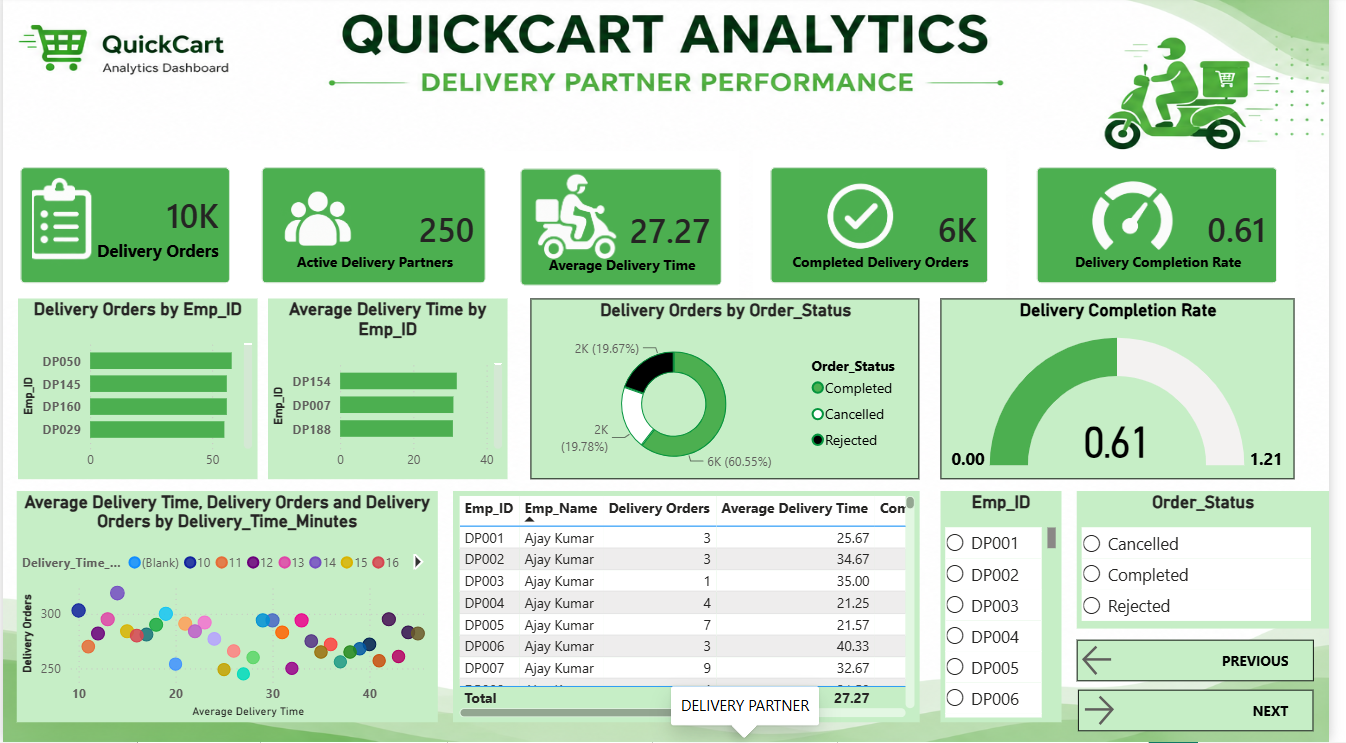

This screenshot's page, from the dashboard's own definition file:
{"tool":"powerbi","page":{"name":"DELIVERY PARTNER","canvas":[1280,720],"ordinal":3},"visuals":[{"type":"cardVisual","fields":{"Data":["All Measures.Delivery Orders"]},"box":[0,148.1,236.4,146.8],"z":0},{"type":"image","box":[0,170.1,139.9,90.5],"z":1000},{"type":"cardVisual","fields":{"Data":["All Measures.Active Delivery Partners"]},"box":[232.5,148.1,250.6,146.8],"z":2000},{"type":"image","box":[259.7,180.5,84.4,70.1],"z":3000},{"type":"cardVisual","fields":{"Data":["All Measures.Average Delivery Time"]},"box":[483.1,149.4,228,147.2],"z":4000},{"type":"cardVisual","fields":{"Data":["All Measures.Completed Delivery Orders"]},"box":[723.4,148.1,244.2,146.8],"z":5000},{"type":"image","box":[732.5,168.8,182.2,105],"z":6000},{"type":"cardVisual","fields":{"Data":["All Measures.Delivery Completion Rate"]},"box":[980.5,148.1,266.2,146.8],"z":7000},{"type":"image","box":[1036.4,168.8,106.5,77.9],"z":8000},{"type":"barChart","fields":{"Category":["quickcartdb delivery_partner.Emp_ID"],"Y":["All Measures.Average Delivery Time"]},"box":[255.8,292.2,231.2,174],"z":9000},{"type":"barChart","fields":{"Category":["quickcartdb delivery_partner.Emp_ID"],"Y":["All Measures.Delivery Orders"]},"box":[14.3,292.2,231.2,174],"z":10000},{"type":"donutChart","fields":{"Category":["quickcartdb delivery_partner.Order_Status"],"Y":["All Measures.Delivery Orders"]},"box":[509.1,292.2,375.3,174],"z":11000},{"type":"gauge","fields":{"Y":["All Measures.Delivery Completion Rate"]},"box":[905.2,292.2,341.6,174],"z":12000},{"type":"scatterChart","fields":{"X":["All Measures.Average Delivery Time"],"Y":["All Measures.Delivery Orders"],"Series":["quickcartdb delivery_partner.Delivery_Time_Minutes"],"Size":["All Measures.Delivery Orders"]},"box":[13,477.9,406.5,223.4],"z":13000},{"type":"tableEx","fields":{"Values":["quickcartdb delivery_partner.Emp_ID","quickcartdb delivery_partner.Emp_Name","All Measures.Delivery Orders","All Measures.Average Delivery Time","All Measures.Completed Delivery Orders"]},"box":[433.8,477.9,450.6,223.4],"z":14000},{"type":"listSlicer","fields":{"Values":["quickcartdb delivery_partner.Emp_ID"]},"box":[905.2,477.9,116.9,223.4],"z":15000},{"type":"listSlicer","fields":{"Values":["quickcartdb delivery_partner.Order_Status"]},"box":[1036.4,477.9,244.2,132.5],"z":16000},{"type":"actionButton","box":[1036.4,620.8,228.6,40.3],"z":17000},{"type":"actionButton","box":[1037.7,670.1,227.3,40.3],"z":18000},{"type":"image","box":[487,163.6,128.6,115.6],"z":19000}]}

Visuals, with their boxes in screenshot pixels (x1, y1, x2, y2), scaled from the page's 1280x720 canvas onto the 1346x743 screenshot:
cardVisual - All Measures.Delivery Orders: (x1=0, y1=153, x2=249, y2=304)
image: (x1=0, y1=176, x2=147, y2=269)
cardVisual - All Measures.Active Delivery Partners: (x1=244, y1=153, x2=508, y2=304)
image: (x1=273, y1=186, x2=362, y2=259)
cardVisual - All Measures.Average Delivery Time: (x1=508, y1=154, x2=748, y2=306)
cardVisual - All Measures.Completed Delivery Orders: (x1=761, y1=153, x2=1017, y2=304)
image: (x1=770, y1=174, x2=962, y2=283)
cardVisual - All Measures.Delivery Completion Rate: (x1=1031, y1=153, x2=1311, y2=304)
image: (x1=1090, y1=174, x2=1202, y2=255)
barChart - quickcartdb delivery_partner.Emp_ID x All Measures.Average Delivery Time: (x1=269, y1=302, x2=512, y2=481)
barChart - quickcartdb delivery_partner.Emp_ID x All Measures.Delivery Orders: (x1=15, y1=302, x2=258, y2=481)
donutChart - quickcartdb delivery_partner.Order_Status x All Measures.Delivery Orders: (x1=535, y1=302, x2=930, y2=481)
gauge - All Measures.Delivery Completion Rate: (x1=952, y1=302, x2=1311, y2=481)
scatterChart - All Measures.Average Delivery Time x All Measures.Delivery Orders: (x1=14, y1=493, x2=441, y2=724)
tableEx - quickcartdb delivery_partner.Emp_ID x quickcartdb delivery_partner.Emp_Name: (x1=456, y1=493, x2=930, y2=724)
listSlicer - quickcartdb delivery_partner.Emp_ID: (x1=952, y1=493, x2=1075, y2=724)
listSlicer - quickcartdb delivery_partner.Order_Status: (x1=1090, y1=493, x2=1345, y2=630)
actionButton: (x1=1090, y1=641, x2=1330, y2=682)
actionButton: (x1=1091, y1=692, x2=1330, y2=733)
image: (x1=512, y1=169, x2=647, y2=288)
